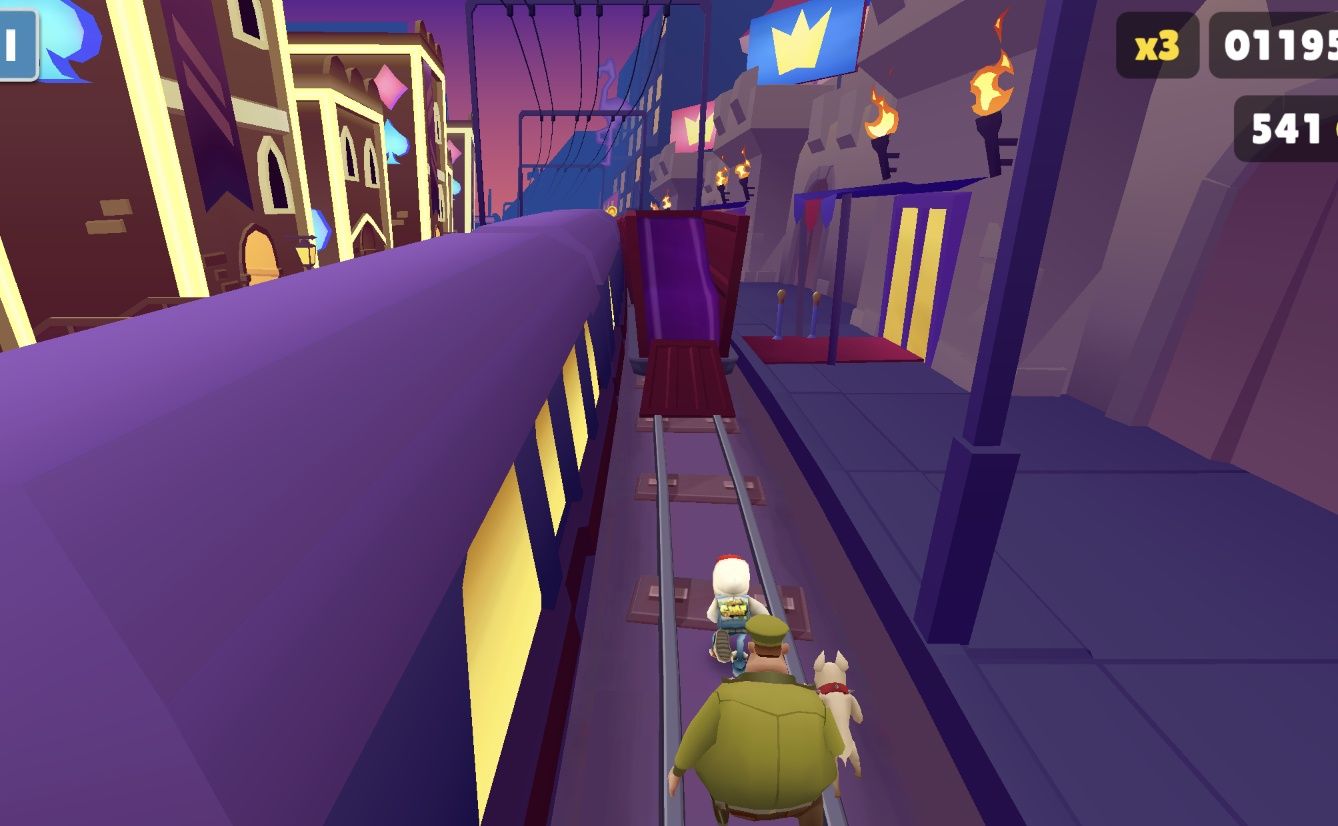train: (0, 210, 619, 826), (617, 215, 741, 419)
